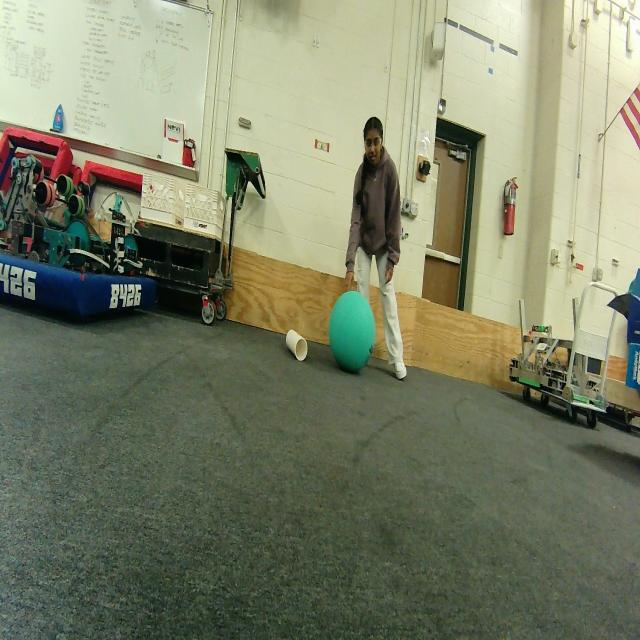algae: (324, 288, 381, 379)
coral: (283, 324, 311, 368)
